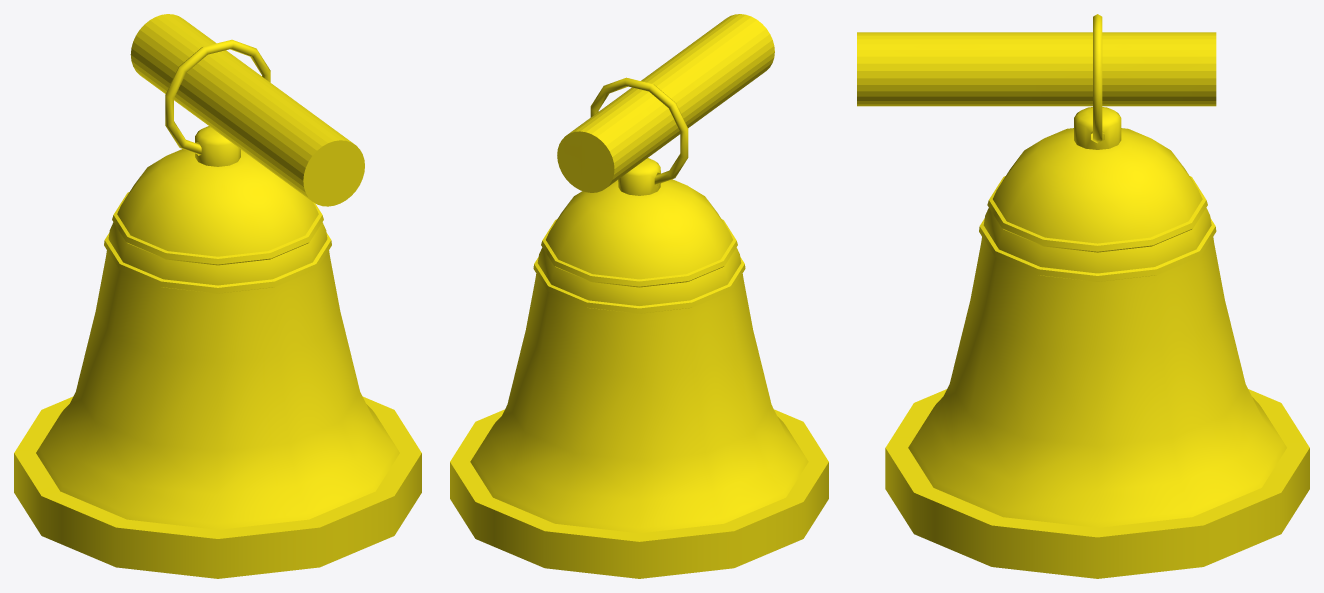
The model's file is CAMPANA.obj.
The picture shows the model from 3 angles, left to right: view 1: azimuth 30°, elevation 25°; view 2: azimuth 150°, elevation 25°; view 3: azimuth 270°, elevation 25°; orthographic projection. The views are drawn at different scales.
Visible parts, largest first — view 1: Cylinder; view 2: Cylinder; view 3: Cylinder.
Boxes of the visible parts, <box> form: Cylinder: <box>14,14,421,578</box>; Cylinder: <box>450,14,828,578</box>; Cylinder: <box>857,14,1309,578</box>.
Size of the model in its own units: 0.2093 by 0.2919 by 0.2233.
Materials: 1 (1 with a texture image).
